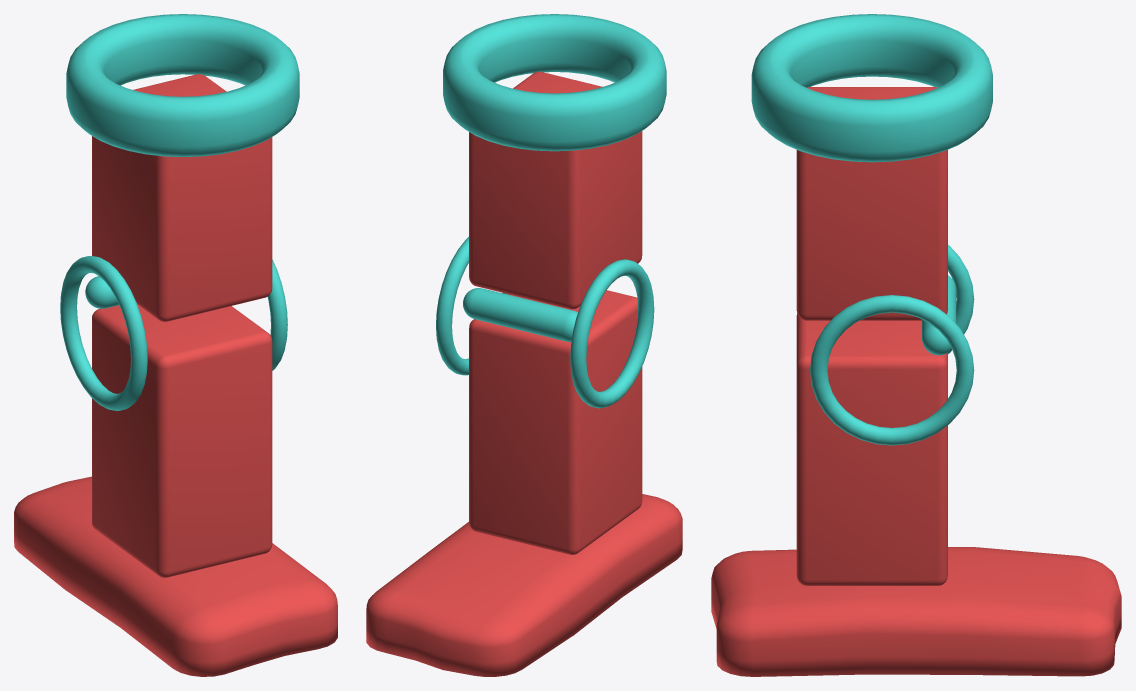
File: ToyRobotRightLeg.fbx
3 views of the same model, side by side, from view 1: azimuth 30°, elevation 25°; view 2: azimuth 150°, elevation 25°; view 3: azimuth 270°, elevation 25° (orthographic). The views are drawn at different scales.
Parts seen in each view (by area): view 1: Arm_base_2.003; view 2: Arm_base_2.003; view 3: Arm_base_2.003.
Boxes of the visible parts, <box> form: Arm_base_2.003: <box>14,14,337,676</box>; Arm_base_2.003: <box>366,14,682,676</box>; Arm_base_2.003: <box>711,14,1121,676</box>.
Size of the model in its own units: 469 by 1223 by 796.
